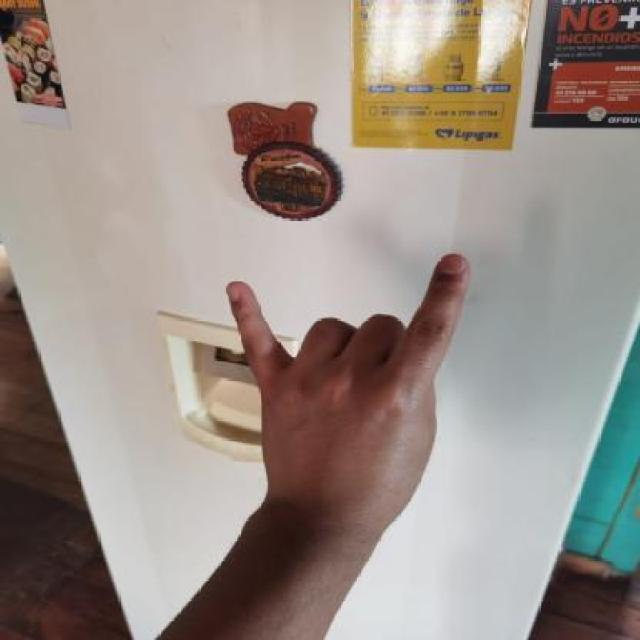U: (218, 252, 470, 510)
